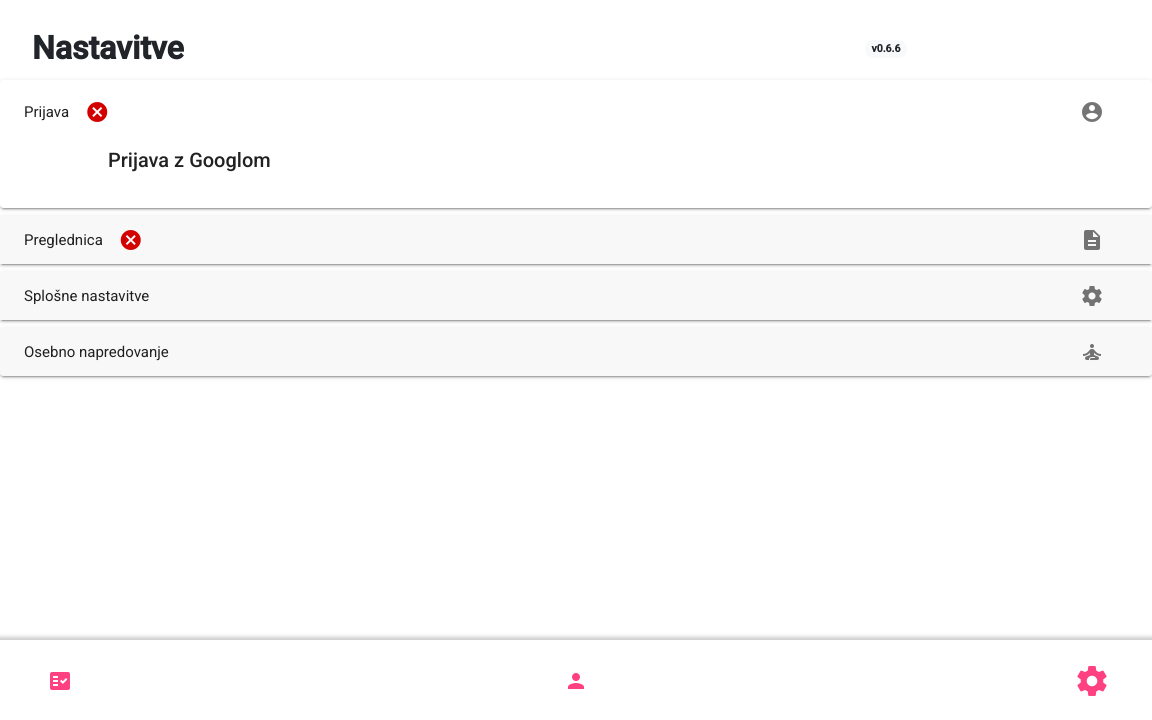
Test: Settings view › Preglednica section
The width and height of the screenshot is (1152, 720).
Click the element showing "Preglednica". click: click(576, 240)
box: [0, 216, 1151, 264]
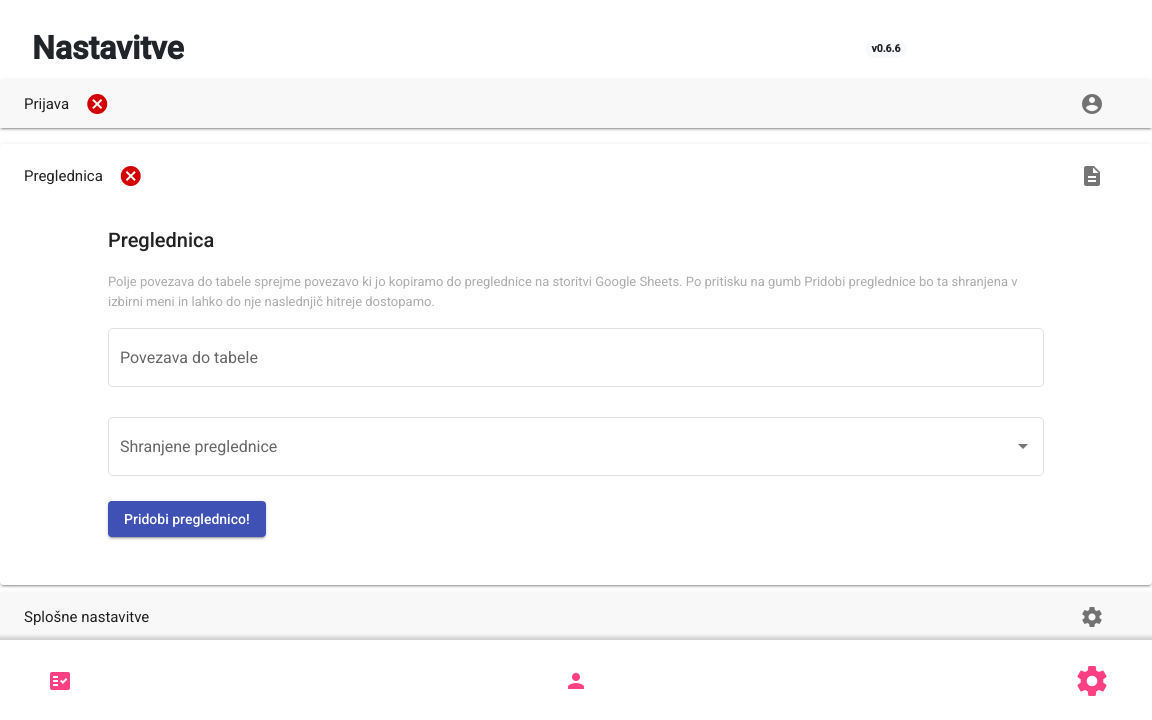
Check: the text "Preglednica" is shown, box [24, 164, 143, 188]
Check: the button "Pridobi preglednico!" is shown, box [108, 501, 266, 537]
